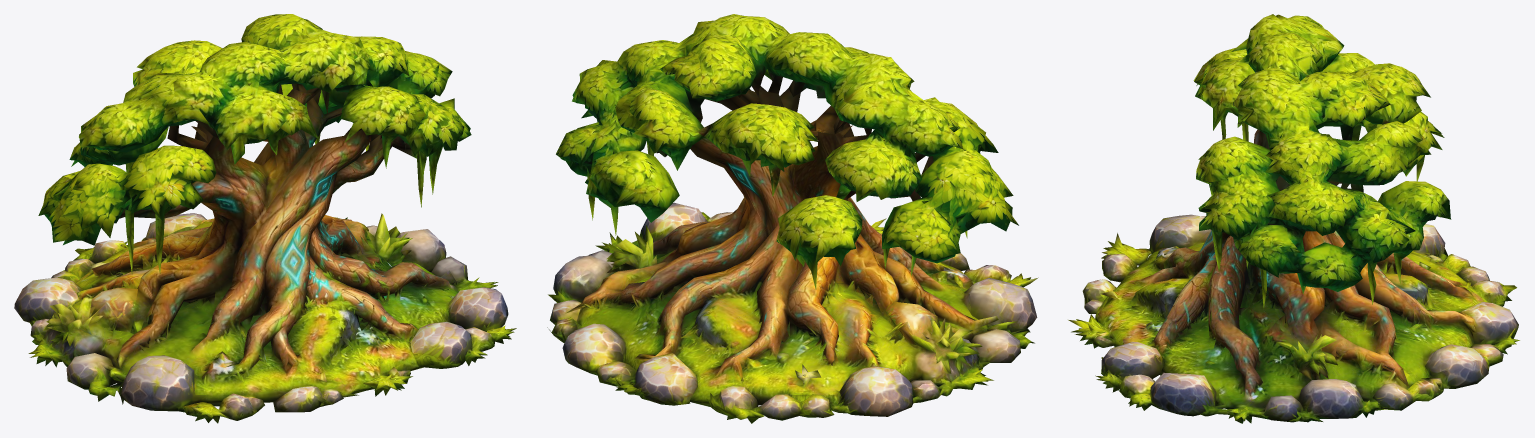
The model's file is ecos_ancestral.glb.
3 views of the same model, side by side, from view 1: azimuth 30°, elevation 25°; view 2: azimuth 150°, elevation 25°; view 3: azimuth 270°, elevation 25° (orthographic). The views are drawn at different scales.
Parts seen in each view (by area): view 1: tripo_part_0, tripo_part_1, tripo_part_3, tripo_part_6, tripo_part_8, tripo_part_7, tripo_part_5, tripo_part_9, tripo_part_11, tripo_part_4, tripo_part_13, tripo_part_2 (+1 smaller); view 2: tripo_part_0, tripo_part_1, tripo_part_3, tripo_part_2, tripo_part_5, tripo_part_6, tripo_part_4, tripo_part_11, tripo_part_7, tripo_part_13, tripo_part_10; view 3: tripo_part_0, tripo_part_1, tripo_part_2, tripo_part_7, tripo_part_8, tripo_part_6, tripo_part_10, tripo_part_4, tripo_part_3, tripo_part_12, tripo_part_9, tripo_part_5.
Part boxes in pixels (box(x1,y1,x2,y2)): tripo_part_0: box(28, 84, 516, 423); tripo_part_1: box(69, 14, 471, 207); tripo_part_3: box(38, 145, 216, 274); tripo_part_6: box(120, 355, 206, 412); tripo_part_8: box(410, 321, 476, 368); tripo_part_7: box(449, 287, 508, 331); tripo_part_5: box(14, 277, 83, 322); tripo_part_9: box(273, 386, 343, 412); tripo_part_11: box(66, 353, 112, 389); tripo_part_4: box(51, 240, 127, 280); tripo_part_13: box(91, 287, 137, 319); tripo_part_2: box(141, 213, 206, 240); tripo_part_0: box(547, 86, 1038, 423); tripo_part_1: box(556, 14, 962, 289); tripo_part_3: box(882, 97, 1018, 276); tripo_part_2: box(562, 323, 697, 405); tripo_part_5: box(837, 366, 913, 416); tripo_part_6: box(964, 277, 1037, 329); tripo_part_4: box(721, 385, 833, 420); tripo_part_11: box(970, 329, 1020, 362); tripo_part_7: box(641, 202, 707, 240); tripo_part_13: box(885, 301, 936, 334); tripo_part_10: box(550, 300, 581, 330); tripo_part_0: box(1068, 129, 1519, 423); tripo_part_1: box(1196, 14, 1451, 309); tripo_part_2: box(1425, 302, 1518, 388); tripo_part_7: box(1148, 372, 1214, 416); tripo_part_8: box(1101, 342, 1163, 380); tripo_part_6: box(1149, 214, 1211, 254); tripo_part_10: box(1372, 378, 1433, 410); tripo_part_4: box(1443, 254, 1505, 296); tripo_part_3: box(1193, 48, 1361, 141); tripo_part_12: box(1263, 395, 1303, 422); tripo_part_9: box(1082, 279, 1116, 313); tripo_part_5: box(1413, 224, 1447, 257).
Size of the model in its own units: 0.9824 by 0.6231 by 0.9138.
Materials: 15 (15 with a texture image).
